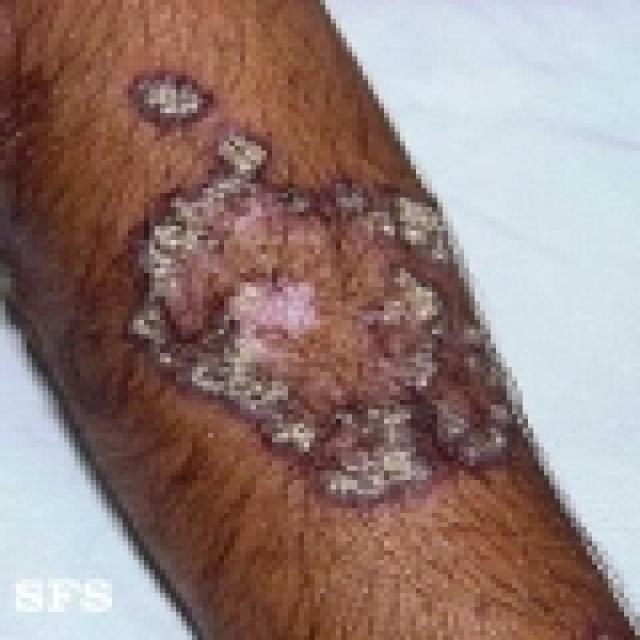lupus: (103, 59, 553, 502)
